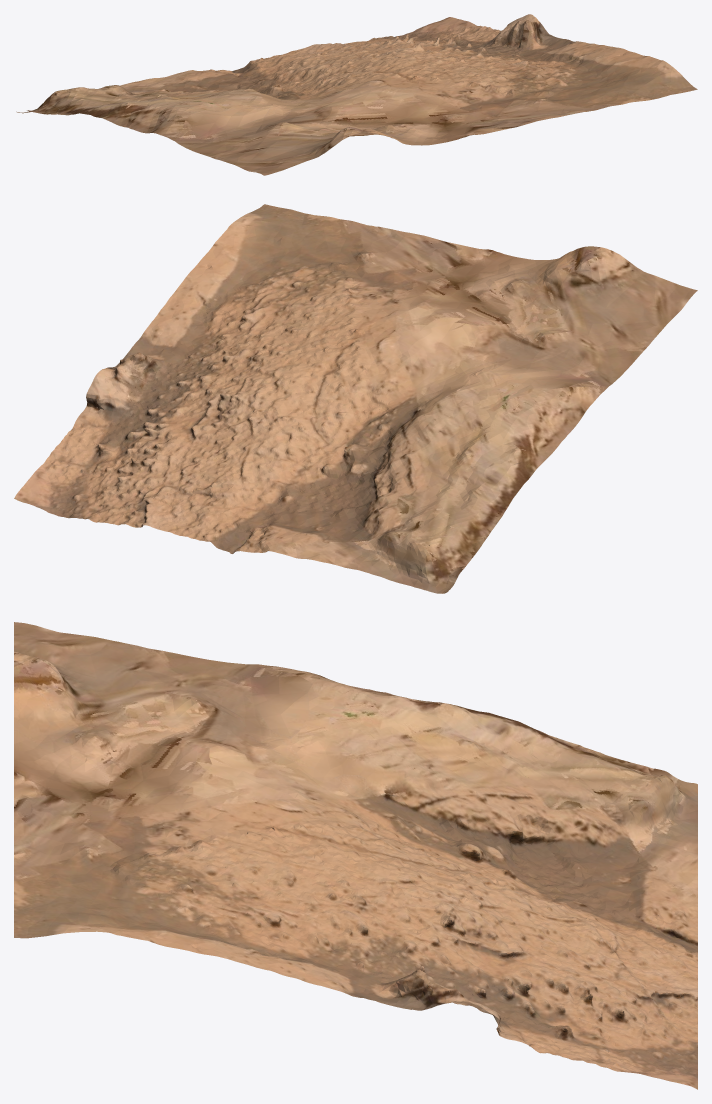
The picture shows the model from 3 angles, top to bottom: view 1: azimuth 30°, elevation 25°; view 2: azimuth 150°, elevation 25°; view 3: azimuth 270°, elevation 25°; orthographic projection. The views are drawn at different scales.
Size of the model in its own units: 1.04 by 0.3618 by 1.04.
2 materials, 2 textured.
